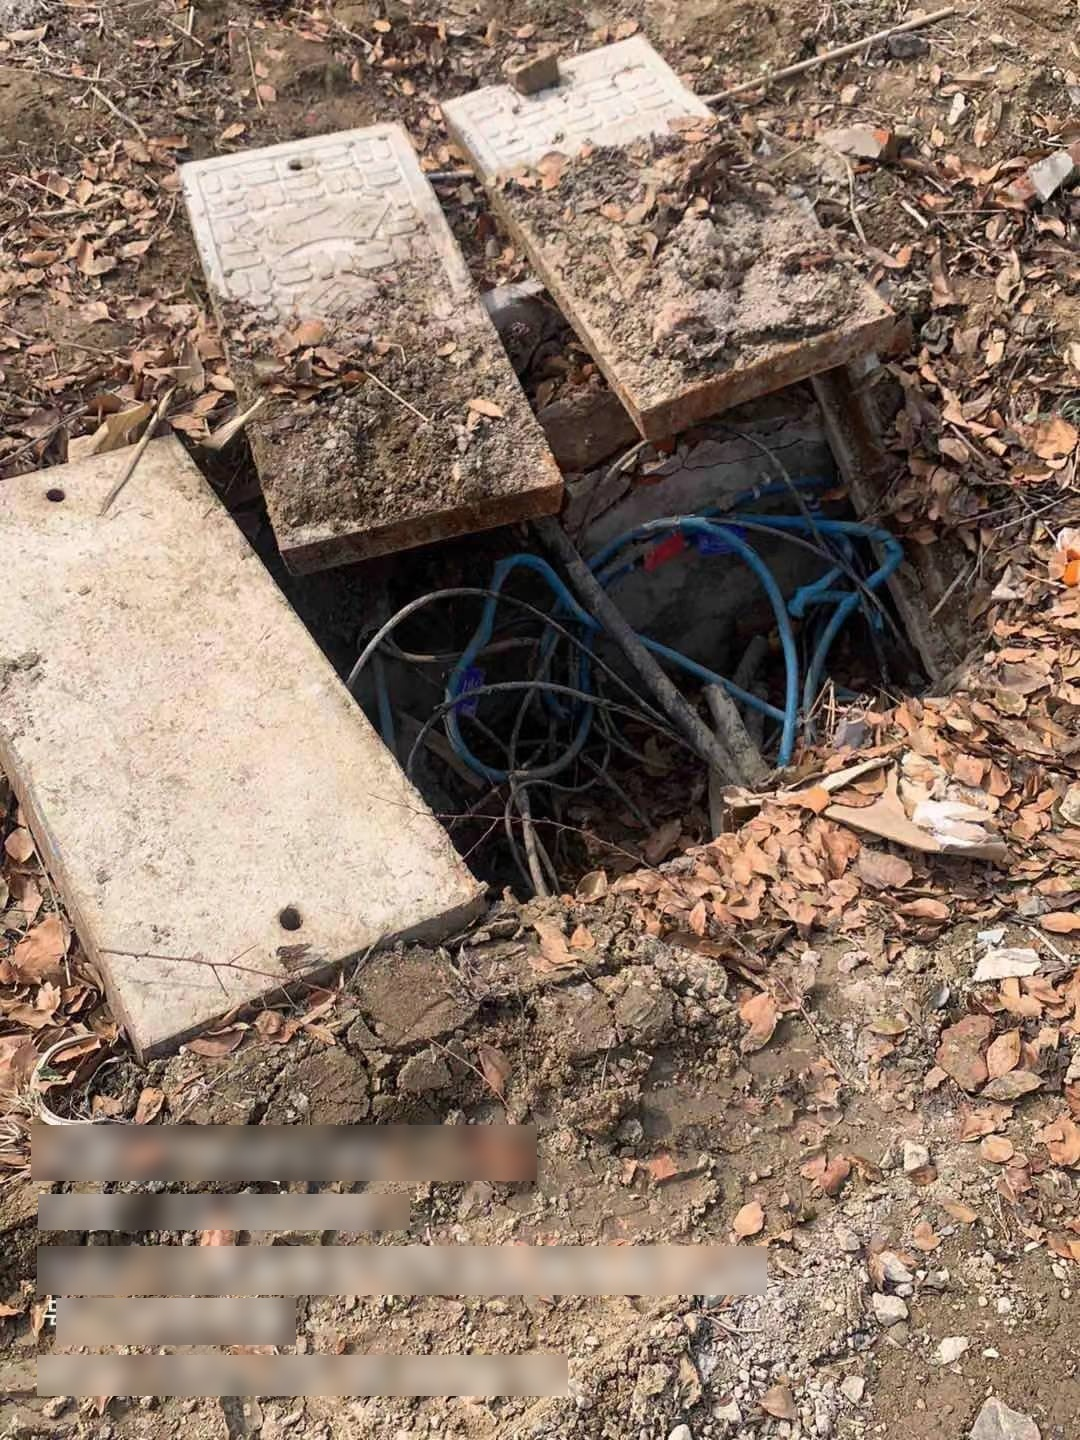uncovered: (25, 39, 1023, 1061)
